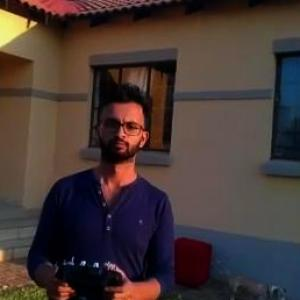follow: (26, 78, 186, 299)
null: (213, 257, 292, 299)
